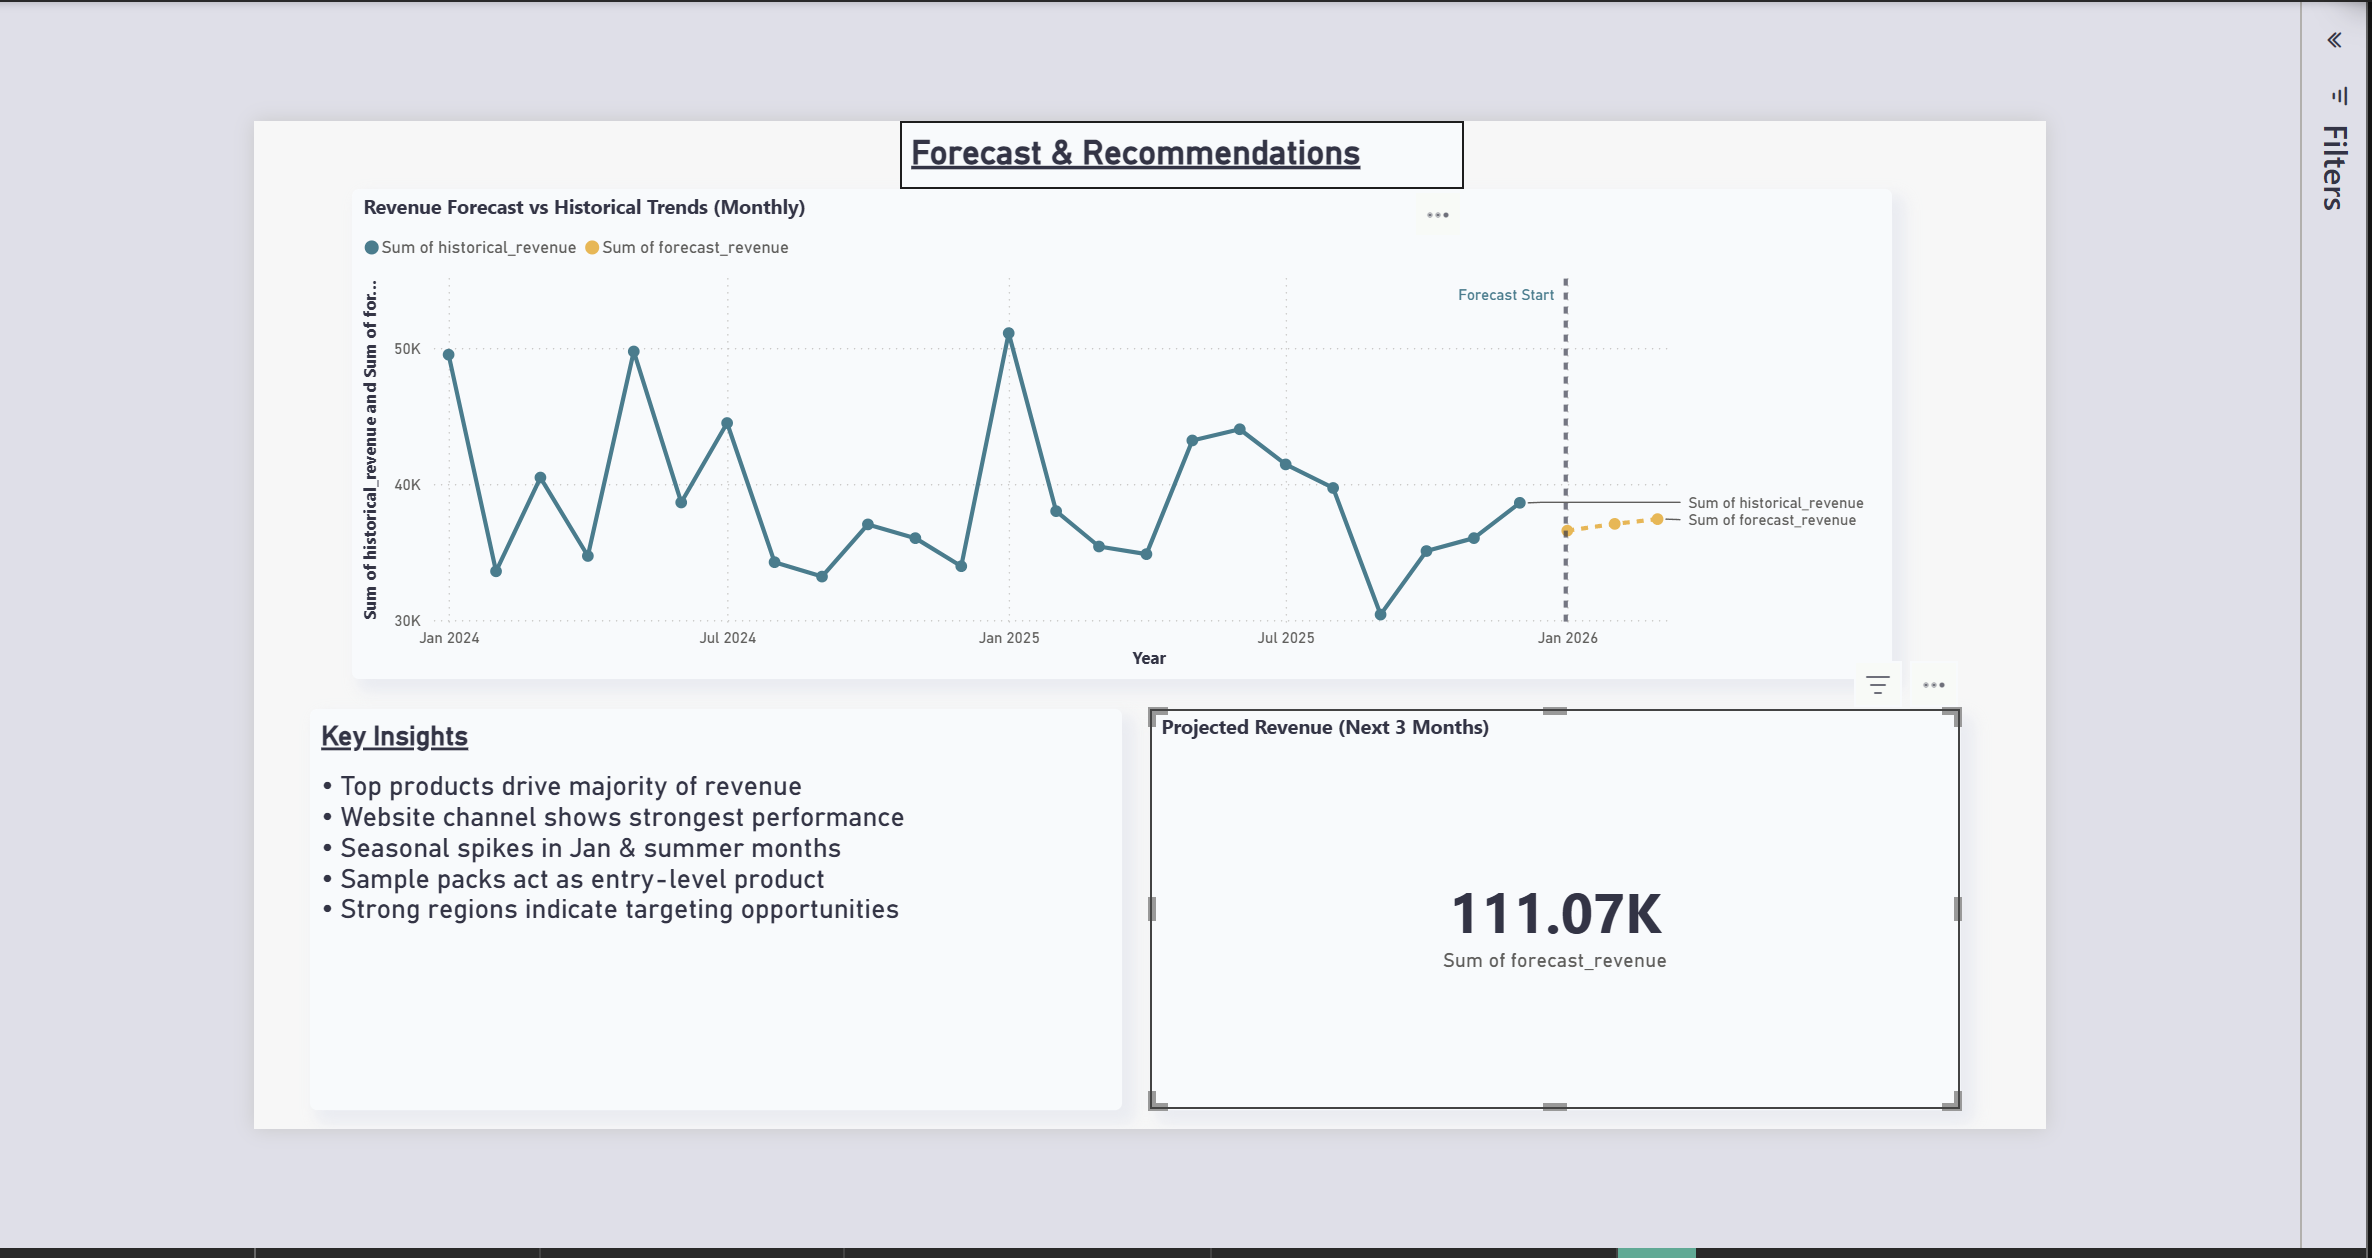

The page's visual inventory and layout, read from the dashboard file:
{"tool":"powerbi","page":{"name":"Forecast & Recommendations","canvas":[1280,720],"ordinal":3},"visuals":[{"type":"lineChart","title":"Revenue Forecast vs Historical Trends (Monthly)","fields":{"Y":["Sum(forecast_combined.historical_revenue)","Sum(forecast_combined.forecast_revenue)"],"Category":["forecast_combined.year_month.Variation.Date Hierarchy.Year","forecast_combined.year_month.Variation.Date Hierarchy.Quarter","forecast_combined.year_month.Variation.Date Hierarchy.Month","forecast_combined.year_month.Variation.Date Hierarchy.Day"]},"box":[70,48.8,1100,350],"z":0},{"type":"textbox","box":[40,420,580,286.2],"z":1000},{"type":"card","title":"Projected Revenue (Next 3 Months)","fields":{"Values":["Sum(forecast_combined.forecast_revenue)"]},"box":[640,420,578.8,286.2],"z":2000},{"type":"textbox","box":[461.2,0,402.5,48.8],"z":3000}]}

Visuals, with their boxes on the page's 1280x720 design canvas (x1, y1, x2, y2). These are canvas units, not pixel positions in the 2372x1258 screenshot, which may show the page scaled, cropped or inside an application window:
"Revenue Forecast vs Historical Trends (Monthly)" lineChart: x1=70, y1=49, x2=1170, y2=399
textbox: x1=40, y1=420, x2=620, y2=706
"Projected Revenue (Next 3 Months)" card: x1=640, y1=420, x2=1219, y2=706
textbox: x1=461, y1=0, x2=864, y2=49
